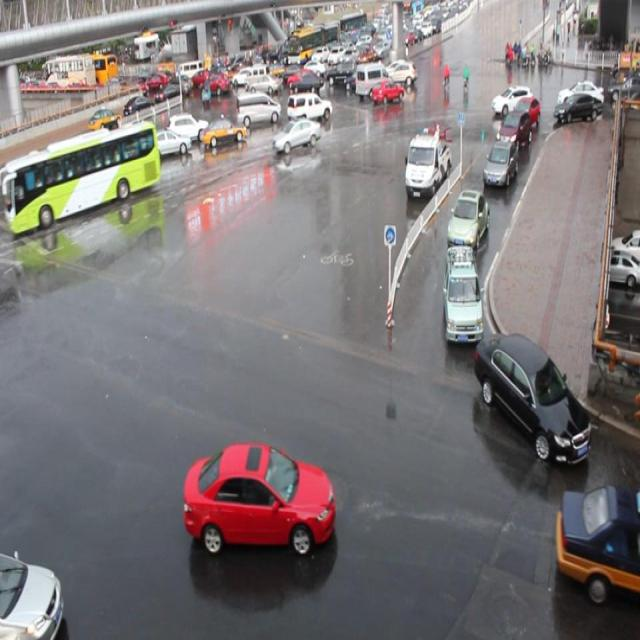bus: (403, 129, 450, 202)
car: (183, 441, 336, 553), (474, 331, 590, 463), (554, 481, 640, 603), (1, 546, 64, 640), (443, 243, 482, 341), (445, 189, 489, 250), (45, 148, 97, 183), (481, 139, 517, 187), (273, 118, 321, 153), (144, 126, 192, 160), (166, 108, 209, 144), (288, 90, 331, 122), (495, 110, 529, 148), (202, 118, 247, 146), (113, 129, 153, 158), (517, 94, 543, 132), (371, 79, 404, 102)
truck: (237, 92, 280, 128), (354, 61, 392, 95)
van: (0, 122, 156, 234)
